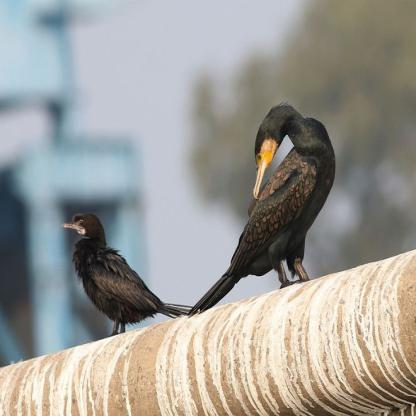Burung: (188, 100, 335, 320)
